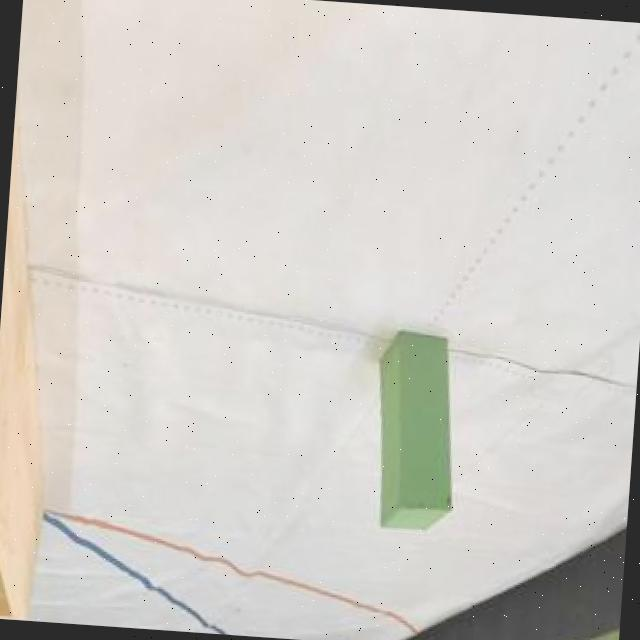greenbox: (362, 332, 464, 532)
